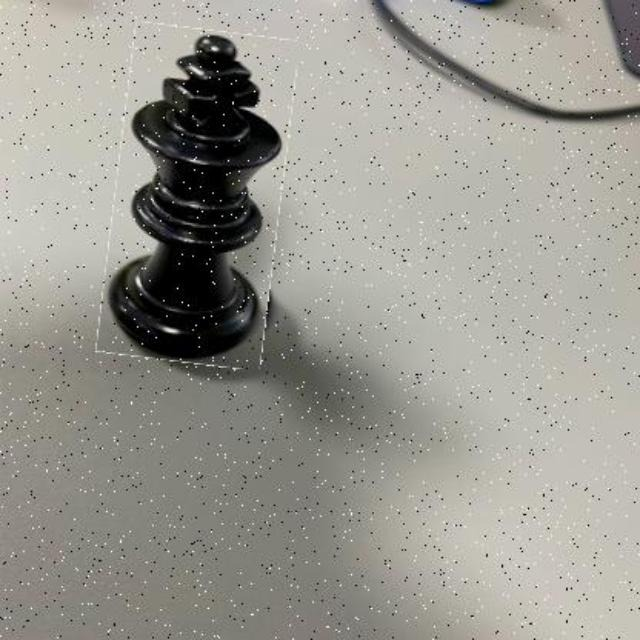black-king: (106, 26, 289, 366)
